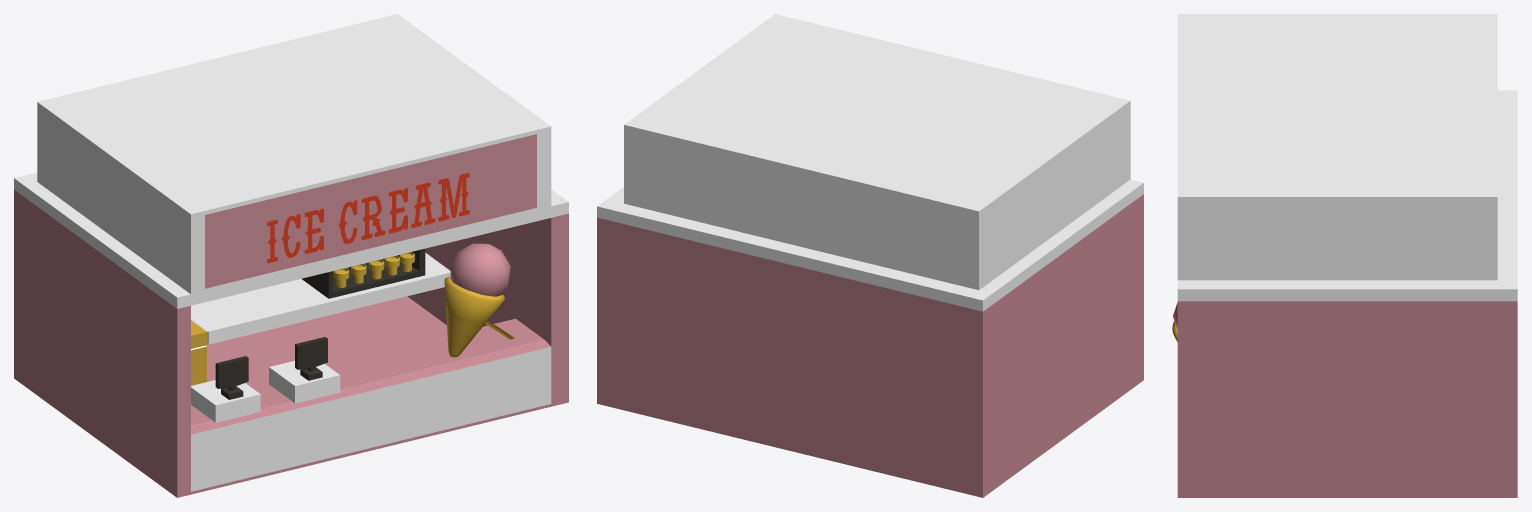
Rendered from IceCreamStand.fbx.
3 views of the same model, side by side, from view 1: azimuth 30°, elevation 25°; view 2: azimuth 150°, elevation 25°; view 3: azimuth 270°, elevation 25° (orthographic). The views are drawn at different scales.
Visible parts, largest first — view 1: Cube, Text; view 2: Cube; view 3: Cube.
Boxes of the visible parts, left/top/right/bottom form: Cube: left=14, top=14, right=568, bottom=497; Text: left=267, top=173, right=469, bottom=263; Cube: left=597, top=14, right=1143, bottom=497; Cube: left=1172, top=14, right=1517, bottom=497.
Size of the model in its own units: 1734 by 1187 by 1272.
